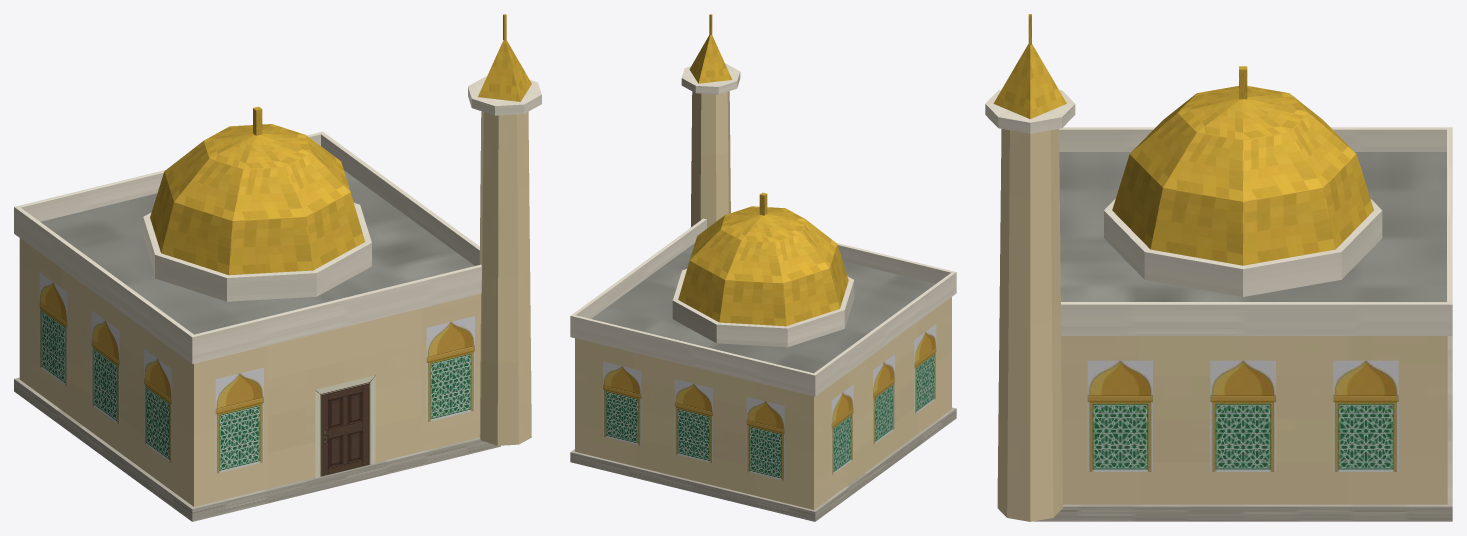
File: mosque-cream-far.glb
3 views of the same model, side by side, from view 1: azimuth 30°, elevation 25°; view 2: azimuth 150°, elevation 25°; view 3: azimuth 270°, elevation 25° (orthographic). The views are drawn at different scales.
Parts seen in each view (by area): view 1: mosque-cream-far; view 2: mosque-cream-far; view 3: mosque-cream-far.
Boxes of the visible parts, x1,y1,x2,y2 form: mosque-cream-far: [14, 14, 541, 521]; mosque-cream-far: [570, 14, 956, 521]; mosque-cream-far: [985, 14, 1452, 521].
Bounding box in the file's own units: 11.42 × 13.7 × 11.42.
Materials: 1 (1 with a texture image).
